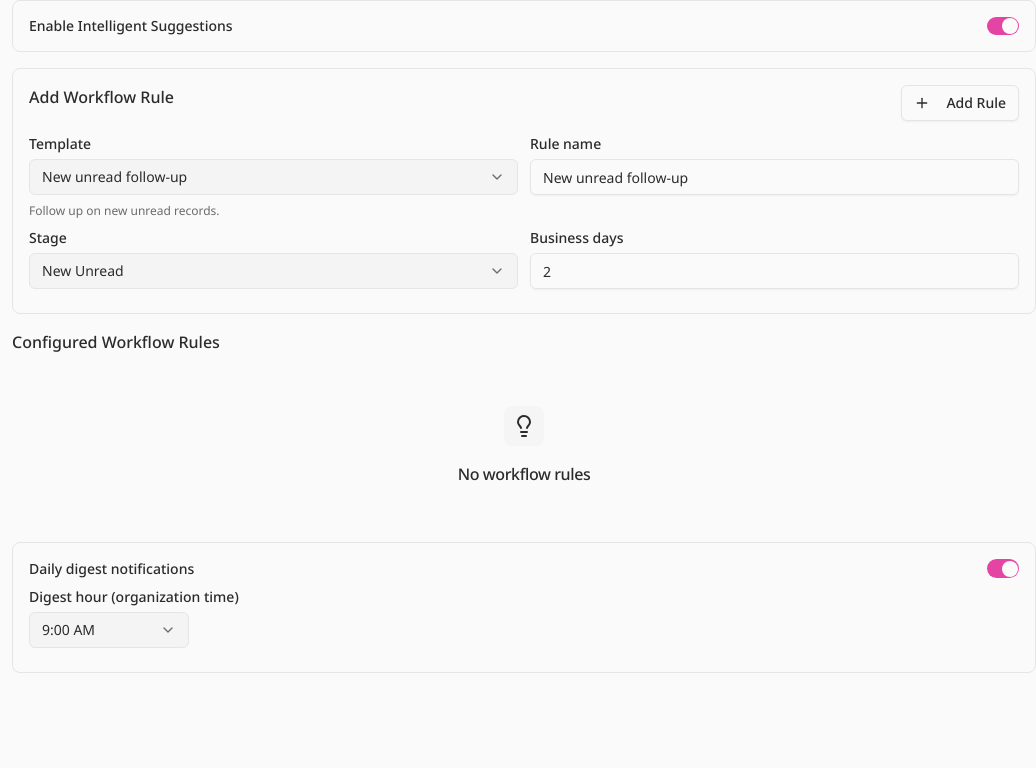
Scenario: IntelligentSuggestionsSection › does not show the duplicate error for the reset draft after adding a rule
The width and height of the screenshot is (1036, 768).
Click the button "Add Rule": {"x": 960, "y": 103} x1=901 y1=85 x2=1019 y2=121
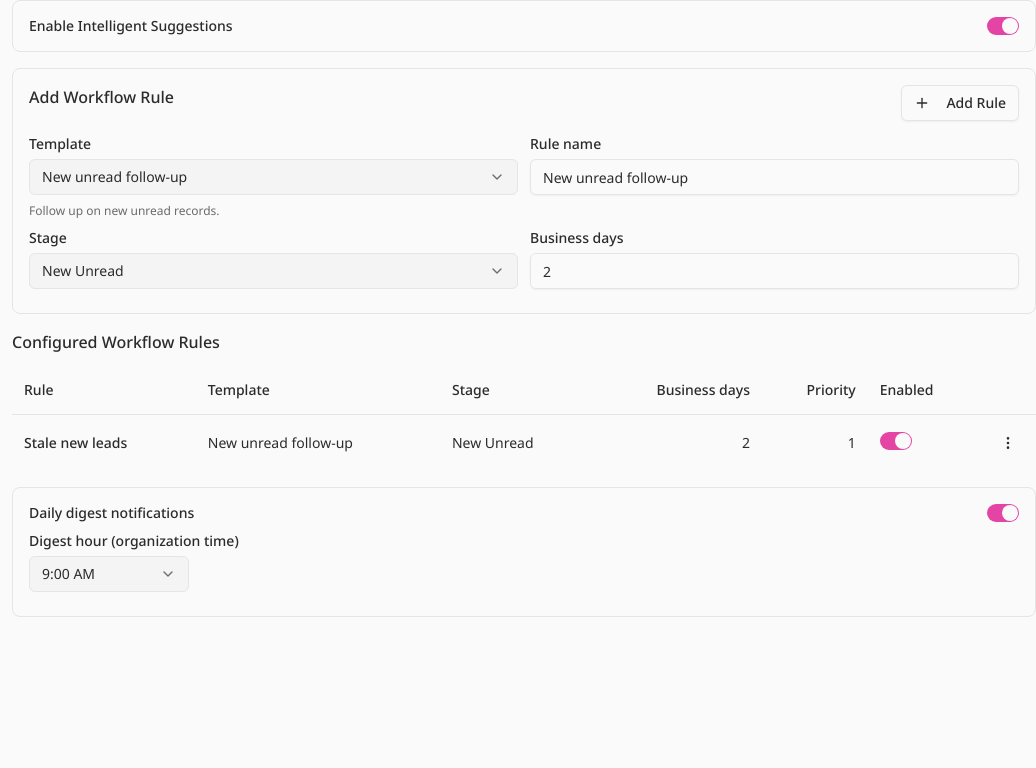
Result: the cell "Stale new leads" is shown at x1=12 y1=414 x2=196 y2=471
